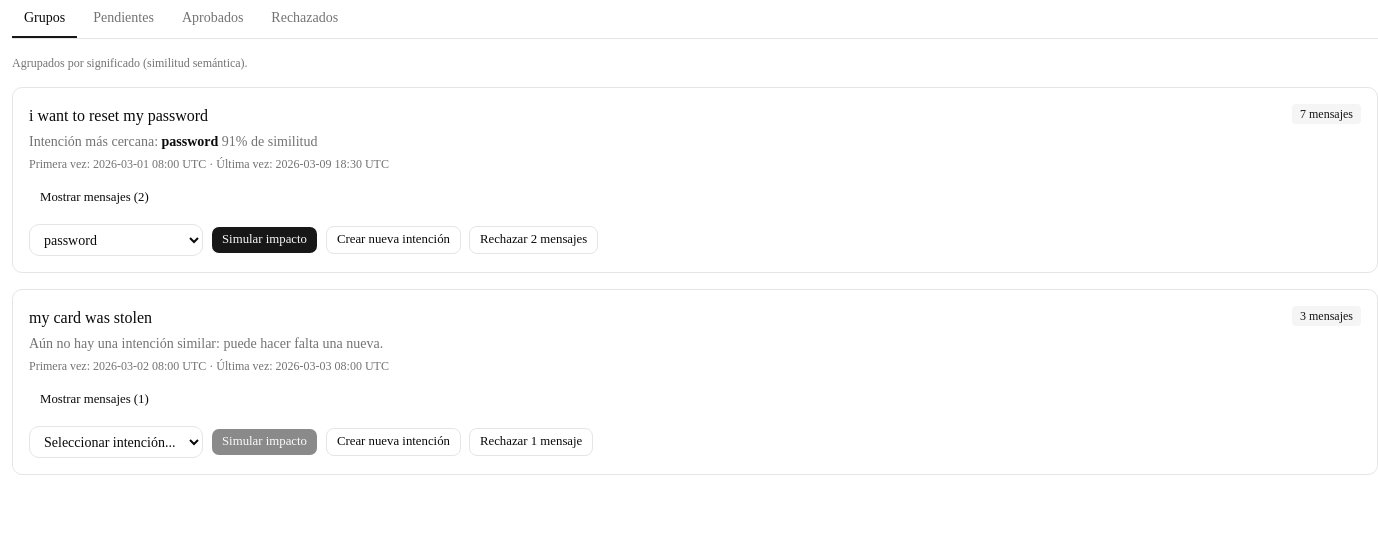
Test: ReviewClusters: impact simulation › disables the actions when every member is unchecked
Select "card" in the dropdown named "intención de destino" below "my card was stolen" at (116, 442), box left=29, top=426, right=203, bottom=458
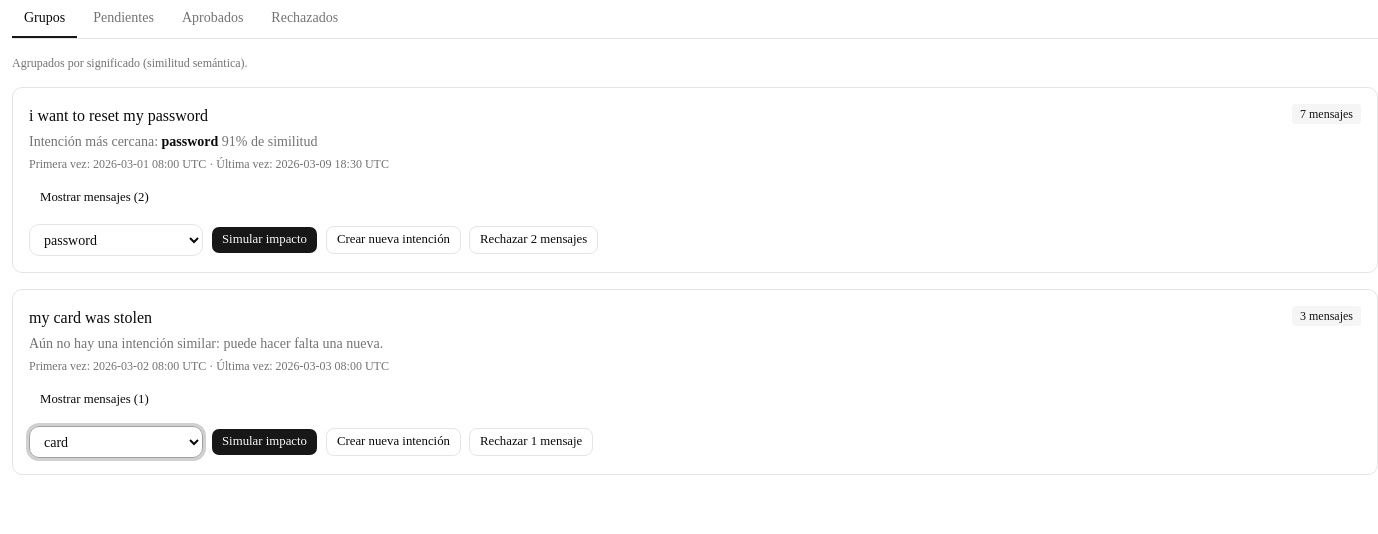
Click the button "Mostrar mensajes (1)".
click(94, 400)  # box left=29, top=386, right=160, bottom=414
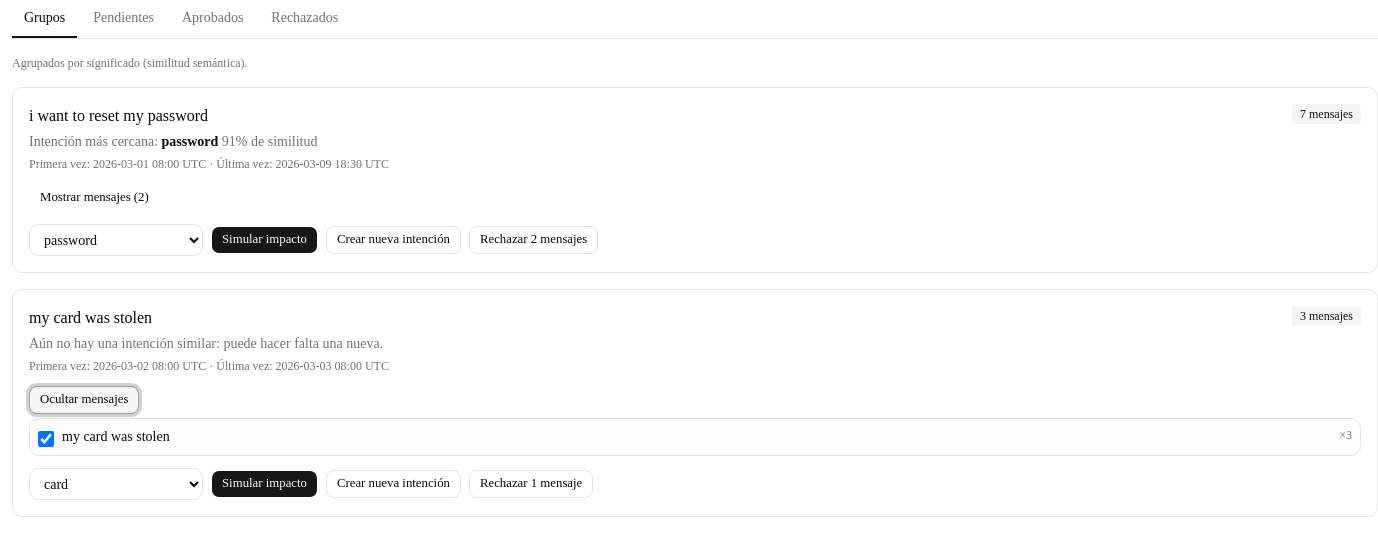
Click the checkbox labelled "my card was stolen ×3".
click(46, 439)  # box left=38, top=431, right=54, bottom=447
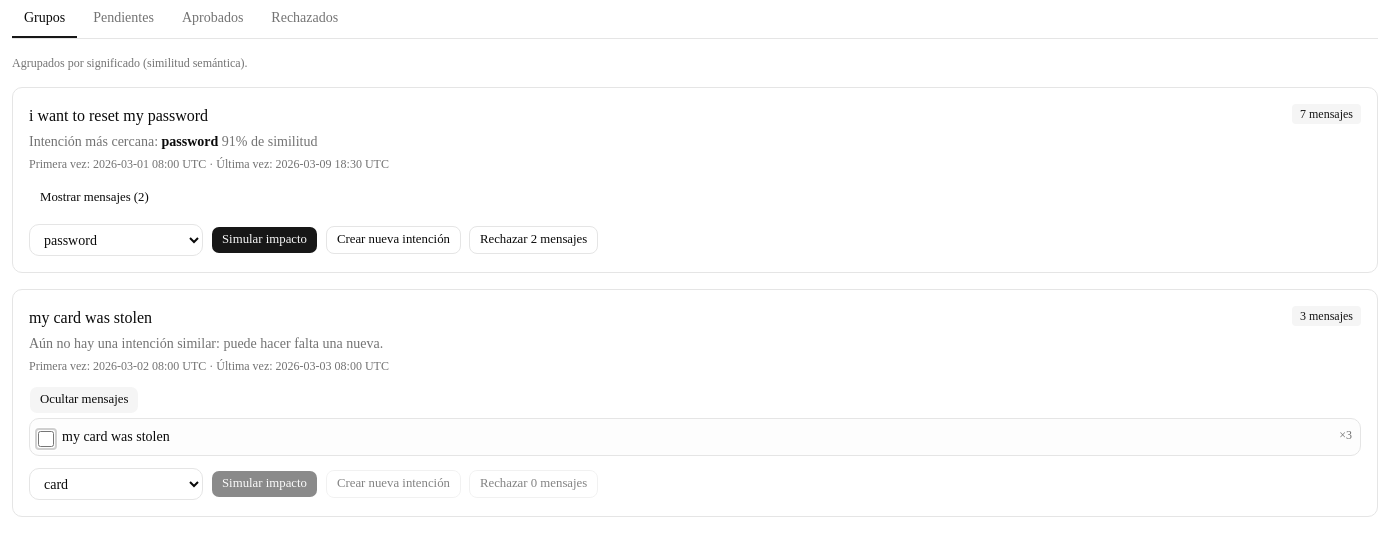
Now the 2nd button "Simular impacto" is disabled, box left=211, top=470, right=318, bottom=498
